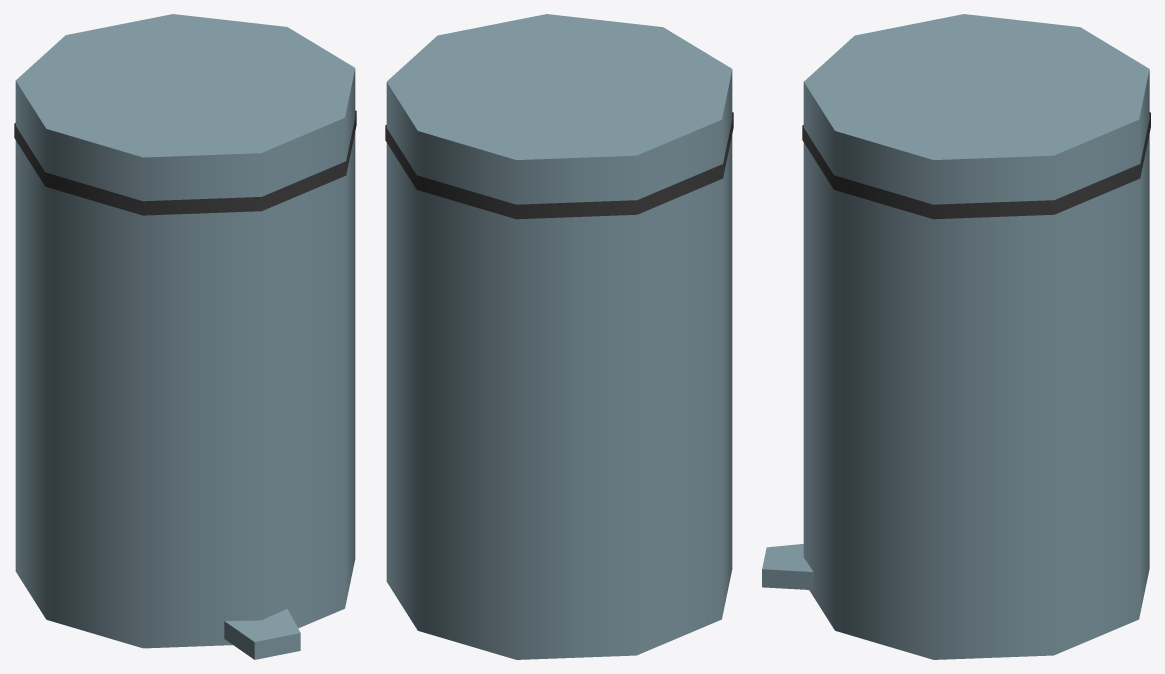
File: bathroom_item_034.glb
The picture shows the model from 3 angles, left to right: view 1: azimuth 30°, elevation 25°; view 2: azimuth 150°, elevation 25°; view 3: azimuth 270°, elevation 25°; orthographic projection.
Visible parts, largest first — view 1: bathroom_item_034; view 2: bathroom_item_034; view 3: bathroom_item_034.
Part boxes in pixels (x1,y1,x2,y2): bathroom_item_034: [14, 14, 356, 659]; bathroom_item_034: [385, 14, 733, 659]; bathroom_item_034: [762, 14, 1150, 659].
Bounding box in the file's own units: 0.3211 × 0.5084 × 0.3584.
1 material, 1 textured.
